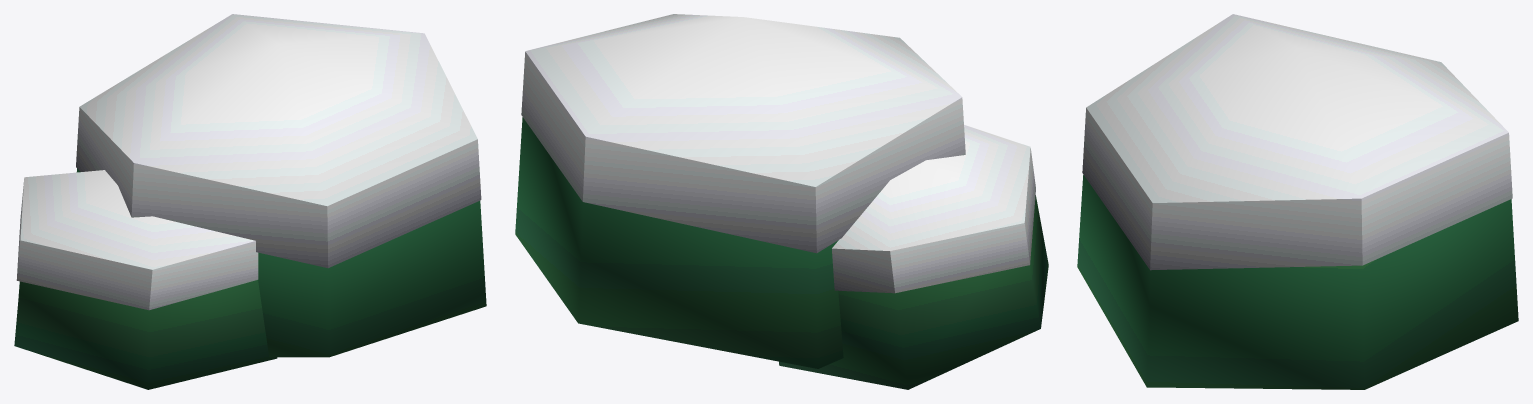
The model's file is SM_Bush_S.fbx.
3 renders of one model, left to right at view 1: azimuth 30°, elevation 25°; view 2: azimuth 150°, elevation 25°; view 3: azimuth 270°, elevation 25°, orthographic. The views are drawn at different scales.
Parts seen in each view (by area): view 1: Bush_S_Snow, Bush_S; view 2: Bush_S_Snow, Bush_S; view 3: Bush_S_Snow, Bush_S.
Boxes of the visible parts, x1,y1,x2,y2 form: Bush_S_Snow: [16, 14, 481, 310]; Bush_S: [14, 168, 486, 389]; Bush_S_Snow: [521, 14, 1035, 293]; Bush_S: [515, 117, 1048, 389]; Bush_S_Snow: [1082, 14, 1512, 270]; Bush_S: [1077, 175, 1518, 389].
Bounding box in the file's own units: 3.94 × 2.55 × 3.05.
